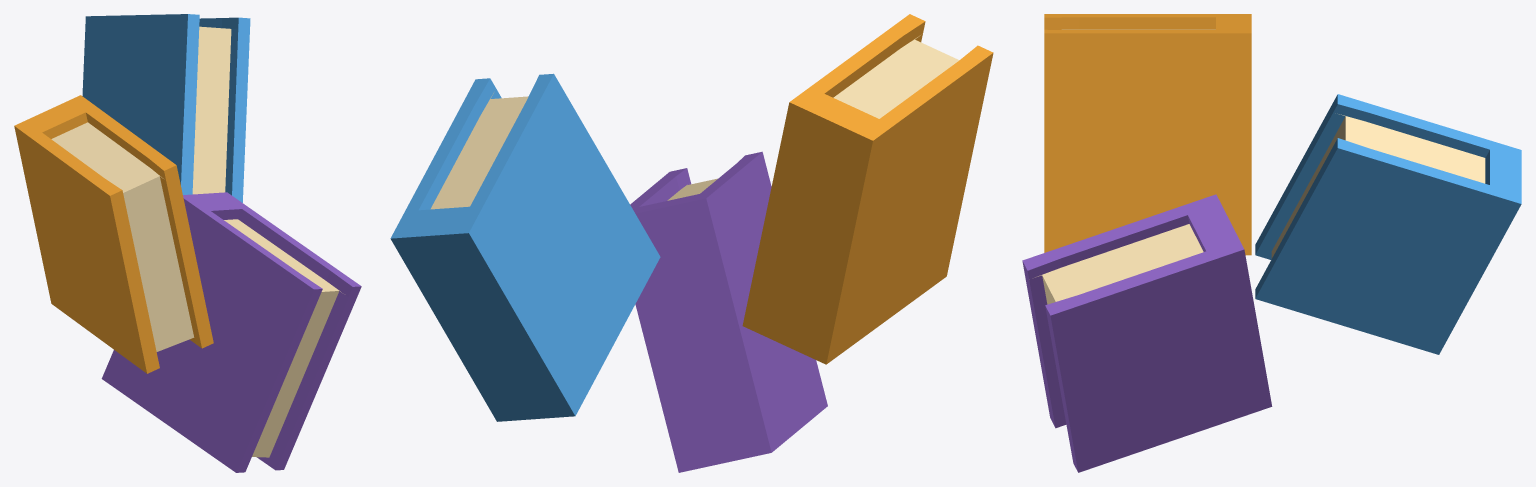
The model's file is educational_services.gltf.
3 renders of one model, left to right at view 1: azimuth 30°, elevation 25°; view 2: azimuth 150°, elevation 25°; view 3: azimuth 270°, elevation 25°, orthographic. The views are drawn at different scales.
Parts seen in each view (by area): view 1: Educational Services; view 2: Educational Services; view 3: Educational Services.
Part boxes in pixels (<box>): Educational Services: <box>14,14,361,472</box>; Educational Services: <box>390,14,993,472</box>; Educational Services: <box>1022,14,1521,472</box>.
Bounding box in the file's own units: 0.8944 × 1.12 × 1.29.
1 material, 1 textured.
